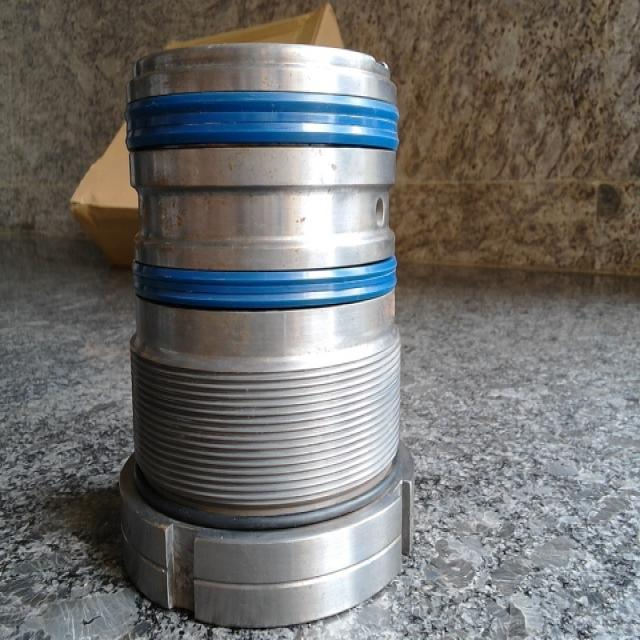black-ring: (121, 443, 414, 533)
purssian-blue-ring: (126, 92, 399, 152), (134, 257, 396, 310)
